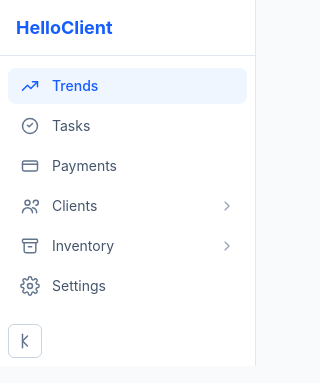
Test: Sidebar › клик по Menu.Toggle переключает collapsed (controlled через setCollapsed)
Click the button named "Свернуть меню": (25, 341) [8,324,42,358]
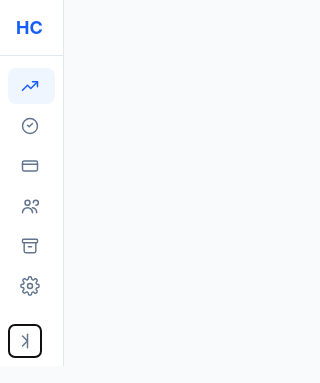
Result: the button named "Развернуть меню" is shown at [8,324,42,358]
